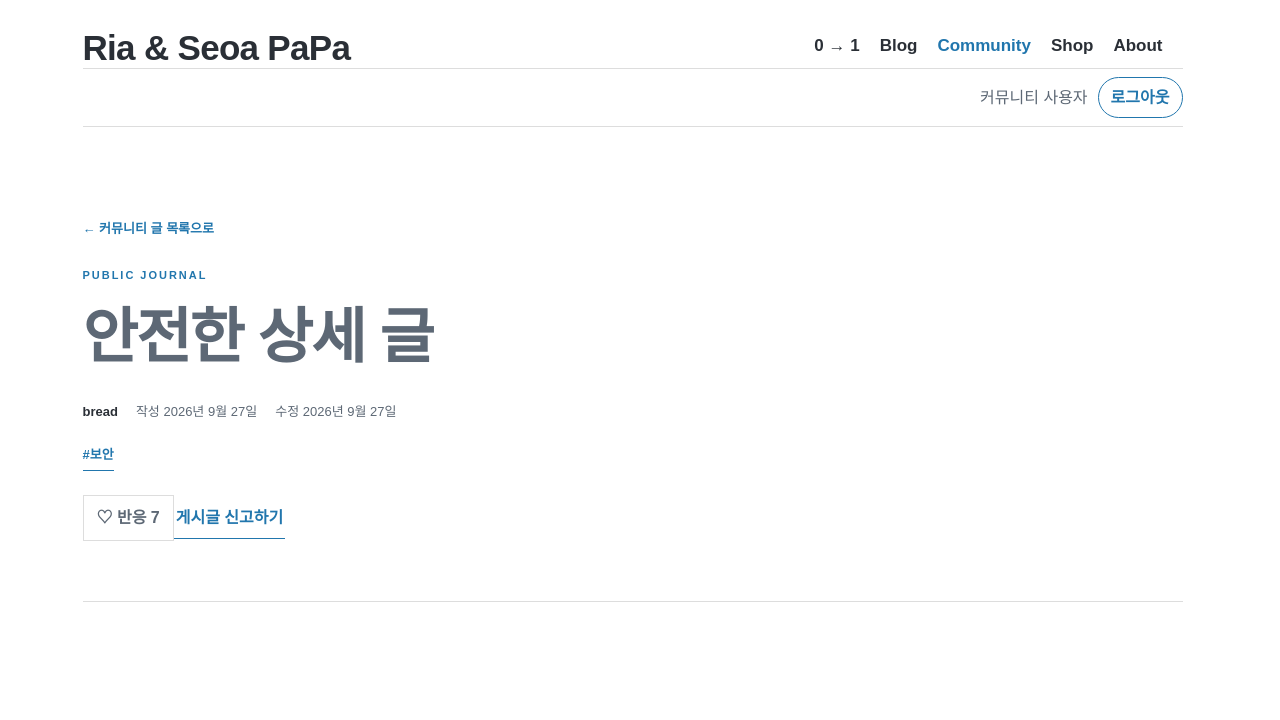
Test: PostDetailPage interactions › submits exact post and comment report targets
Click the button "게시글 신고하기": (230, 518) top-left (174, 498), bottom-right (285, 539)
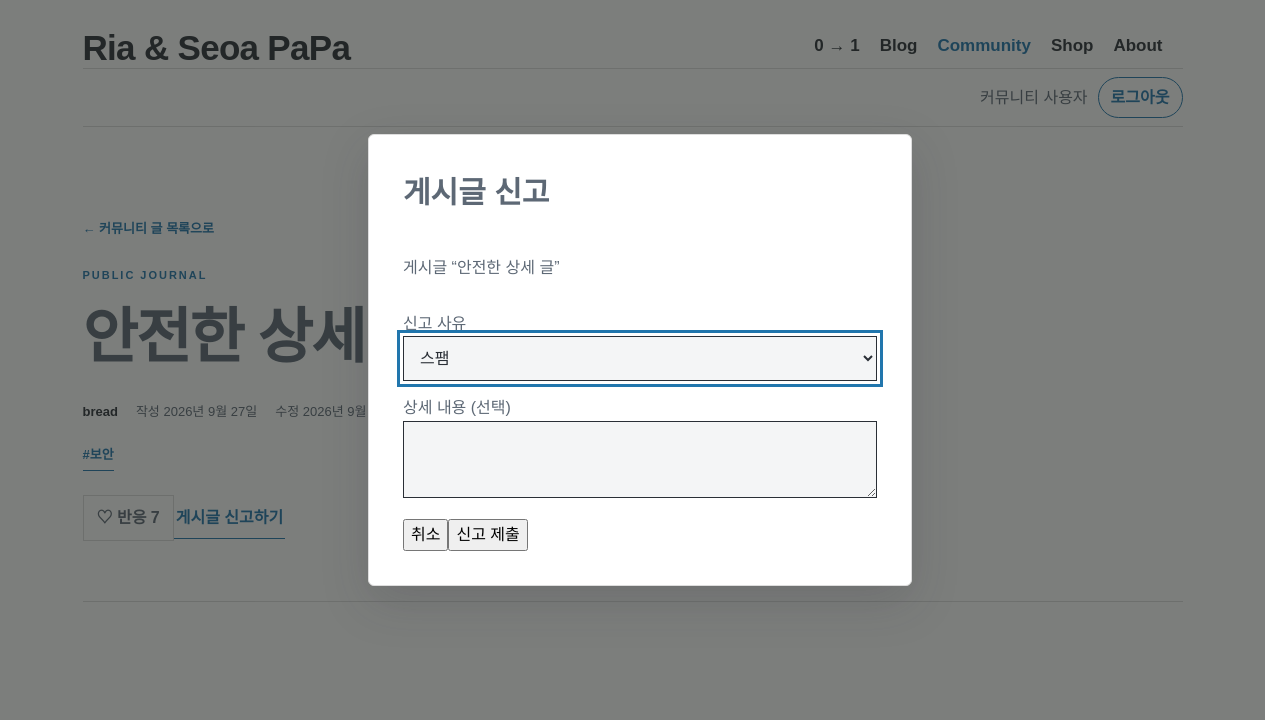
Click the button "신고 제출": (488, 535) top-left (448, 520), bottom-right (528, 551)
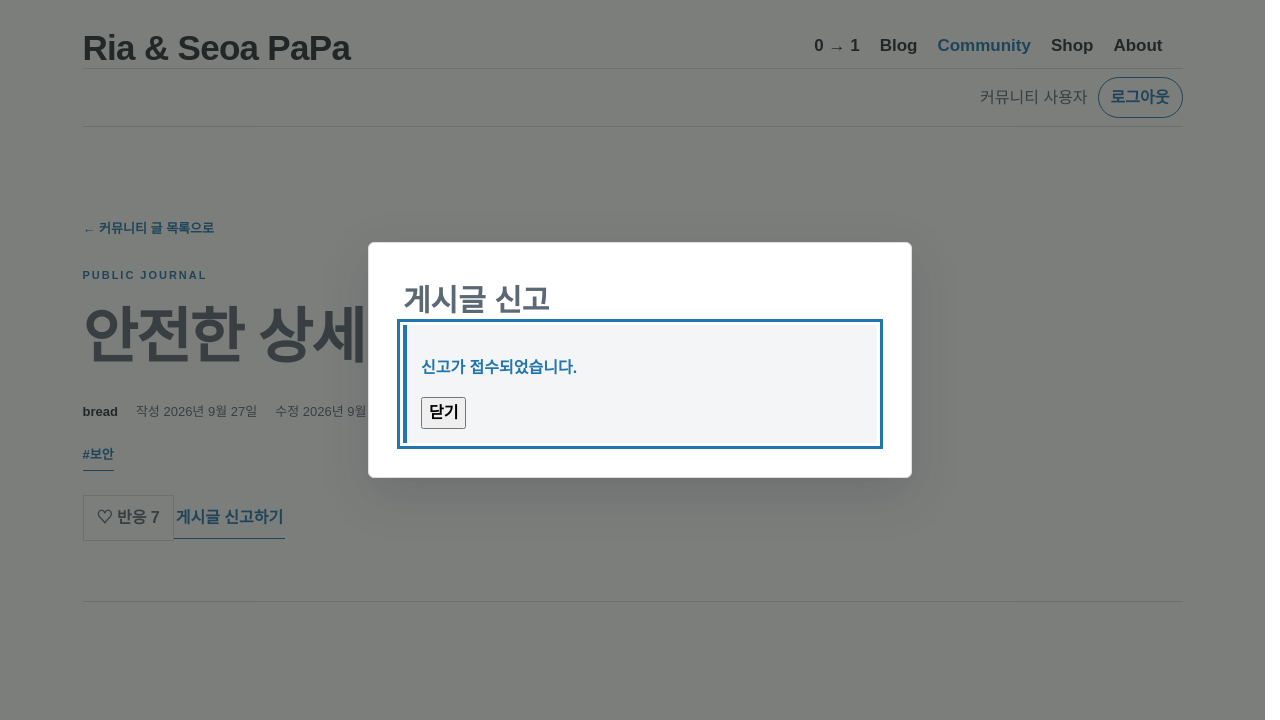
Now the message named "신고 접수 완료" is shown, box top-left (403, 325), bottom-right (877, 443)
Click the button "닫기": (444, 413) top-left (421, 397), bottom-right (466, 429)
(page scrolled)
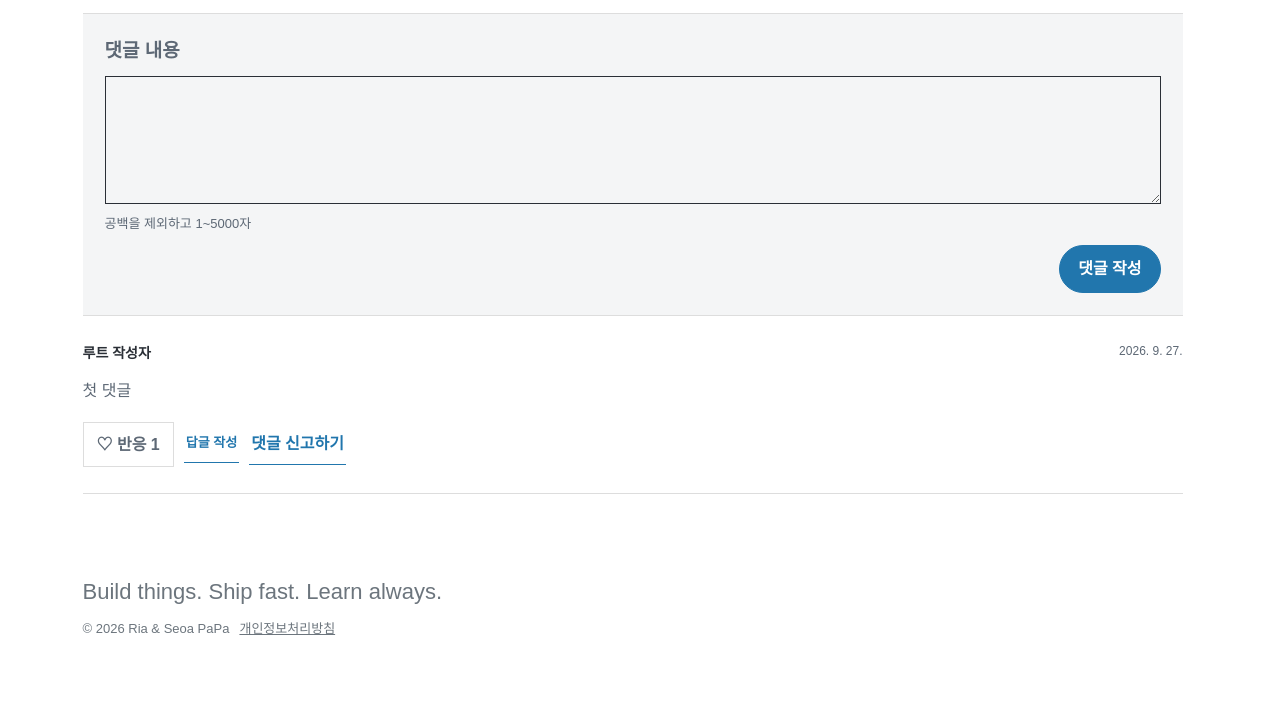
Click the button "댓글 신고하기": (298, 444) top-left (249, 424), bottom-right (346, 465)
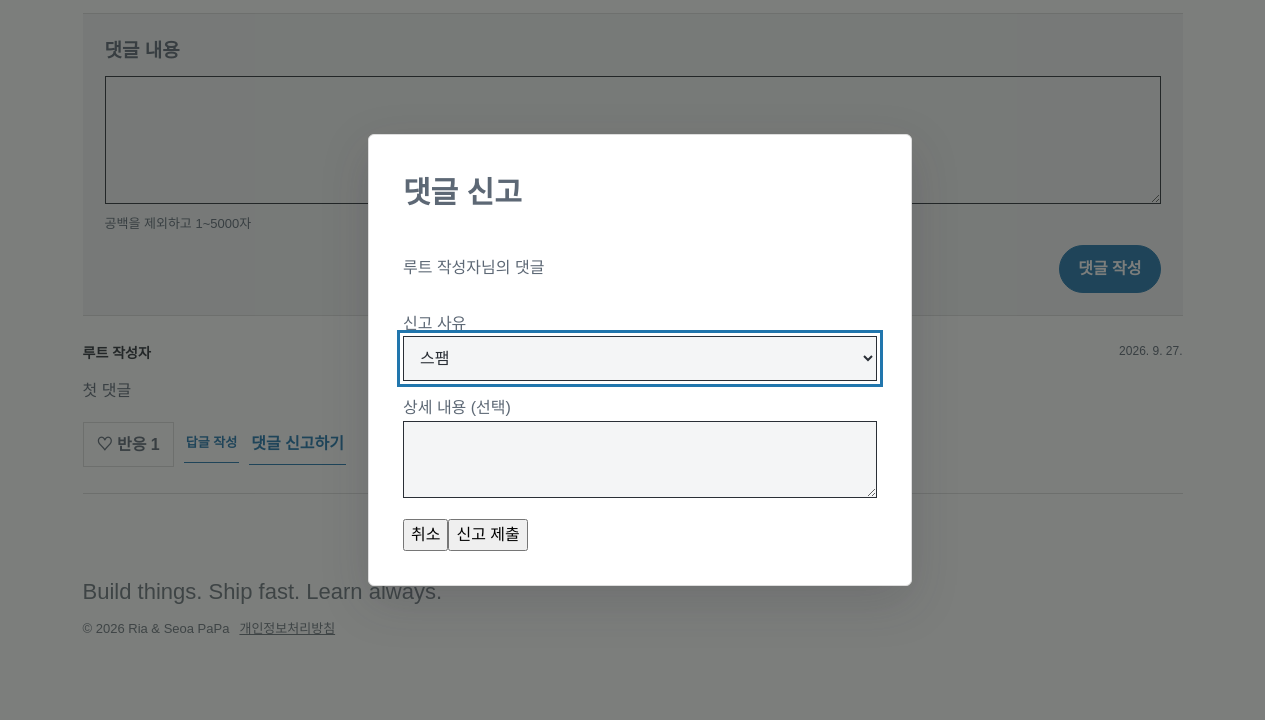
Select "괴롭힘" in the dropdown labelled "신고 사유": (640, 359) top-left (403, 336), bottom-right (877, 381)
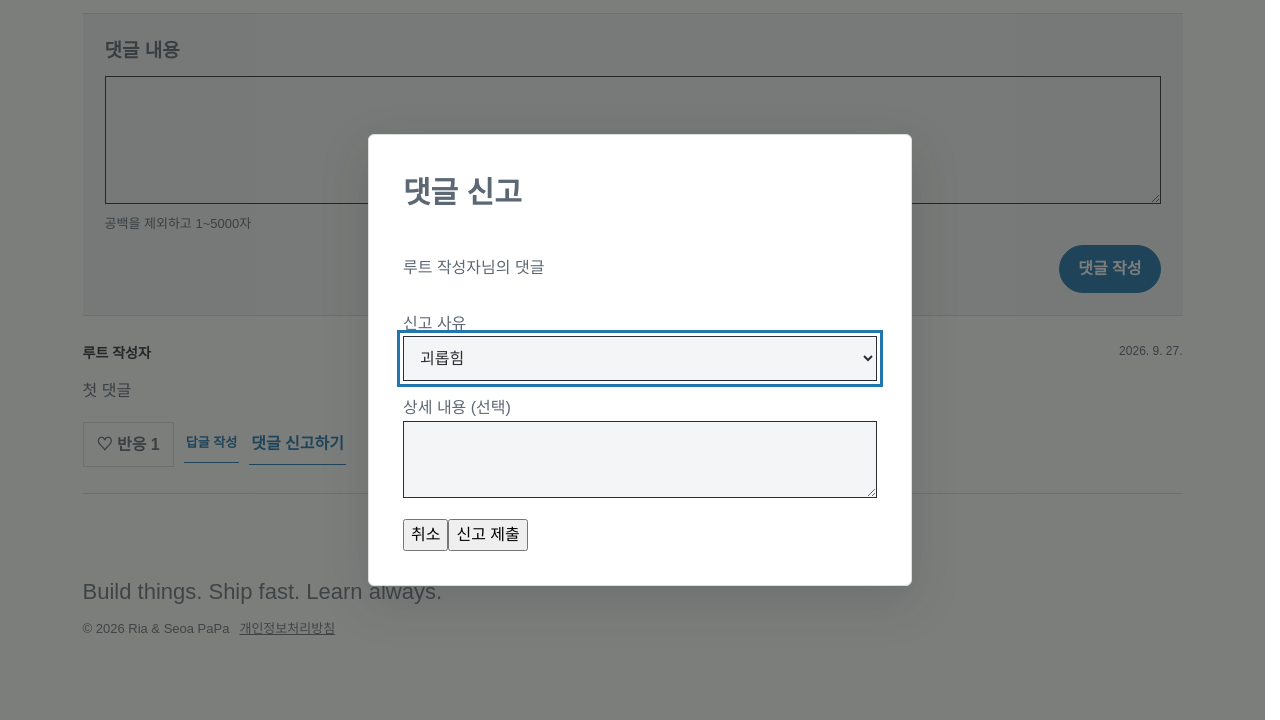
Click the button "신고 제출": (488, 535) top-left (448, 520), bottom-right (528, 551)
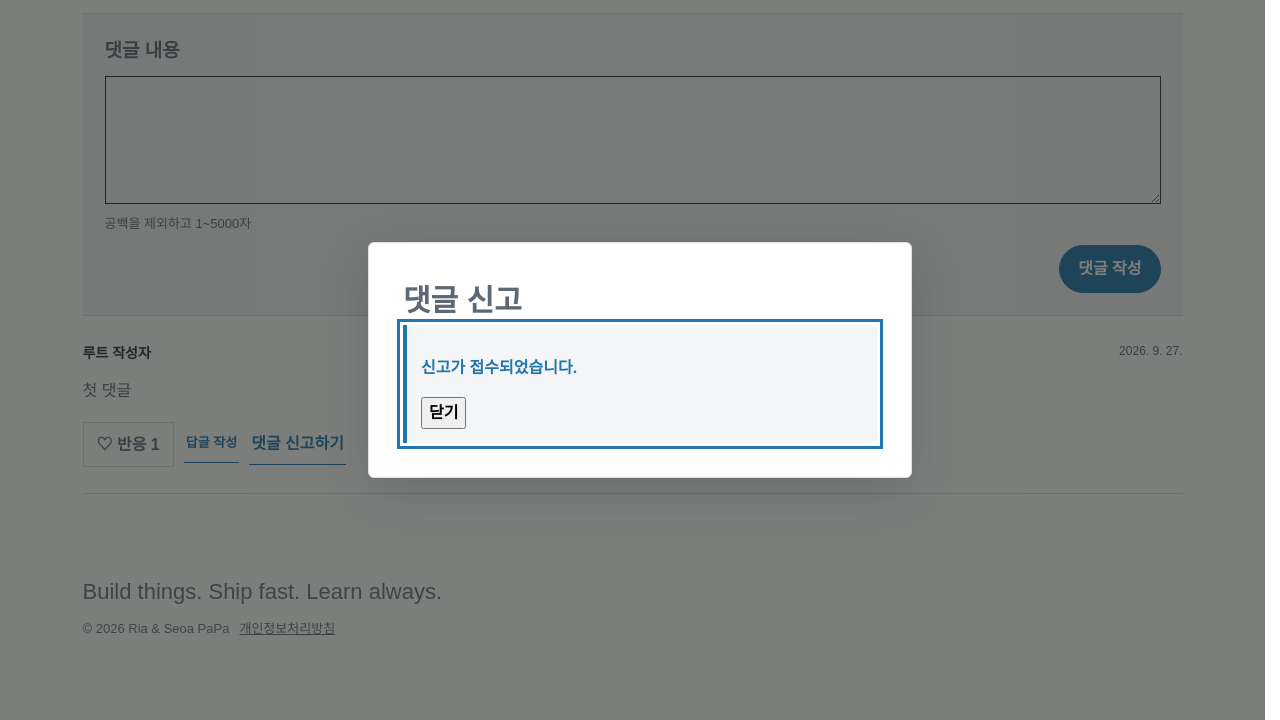
Now the message named "신고 접수 완료" is shown, box top-left (403, 325), bottom-right (877, 443)
